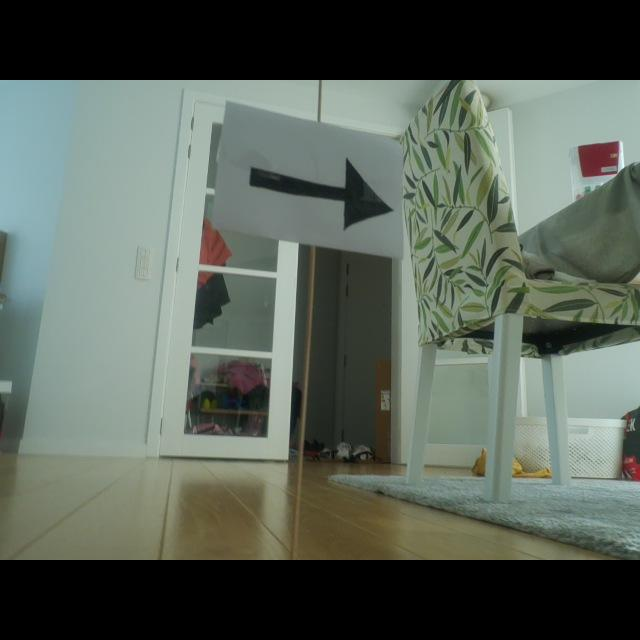jobbra_nyil: (251, 159, 392, 229)
